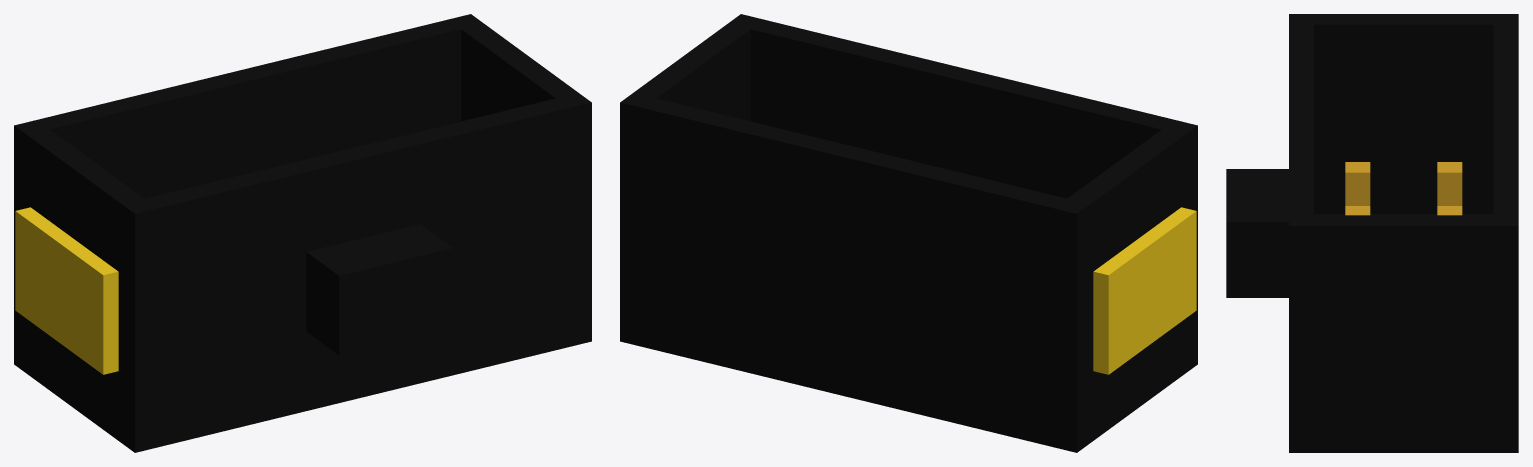
File: PCIe_Socket.obj
The picture shows the model from 3 angles, left to right: view 1: azimuth 30°, elevation 25°; view 2: azimuth 150°, elevation 25°; view 3: azimuth 270°, elevation 25°; orthographic projection. The views are drawn at different scales.
Visible parts, largest first — view 1: WallBack, WallFront, Base, WallLeft, LatchTab, Label12V, WallRight; view 2: WallFront, WallBack, Base, WallLeft, WallRight, Label12V; view 3: WallRight, WallLeft, WallFront, WallBack, Base, LatchTab, Pin00, Pin01.
Boxes of the visible parts, bbox=[...] form: WallBack: bbox=[122, 98, 591, 451]; WallFront: bbox=[14, 14, 483, 373]; Base: bbox=[14, 301, 591, 452]; WallLeft: bbox=[14, 120, 157, 451]; LatchTab: bbox=[306, 224, 453, 355]; Label12V: bbox=[15, 207, 118, 374]; WallRight: bbox=[449, 14, 591, 346]; WallFront: bbox=[620, 98, 1089, 452]; WallBack: bbox=[728, 14, 1197, 372]; Base: bbox=[620, 301, 1197, 452]; WallLeft: bbox=[1054, 120, 1197, 452]; WallRight: bbox=[620, 14, 763, 346]; Label12V: bbox=[1093, 207, 1196, 374]; WallRight: bbox=[1289, 215, 1518, 452]; WallLeft: bbox=[1289, 14, 1518, 213]; WallFront: bbox=[1493, 14, 1518, 452]; WallBack: bbox=[1289, 14, 1313, 452]; Base: bbox=[1289, 214, 1518, 452]; LatchTab: bbox=[1226, 169, 1288, 297]; Pin00: bbox=[1437, 162, 1462, 205]; Pin01: bbox=[1345, 162, 1370, 205].
Bounding box in the file's own units: 0.0248 × 0.012 × 0.014.
